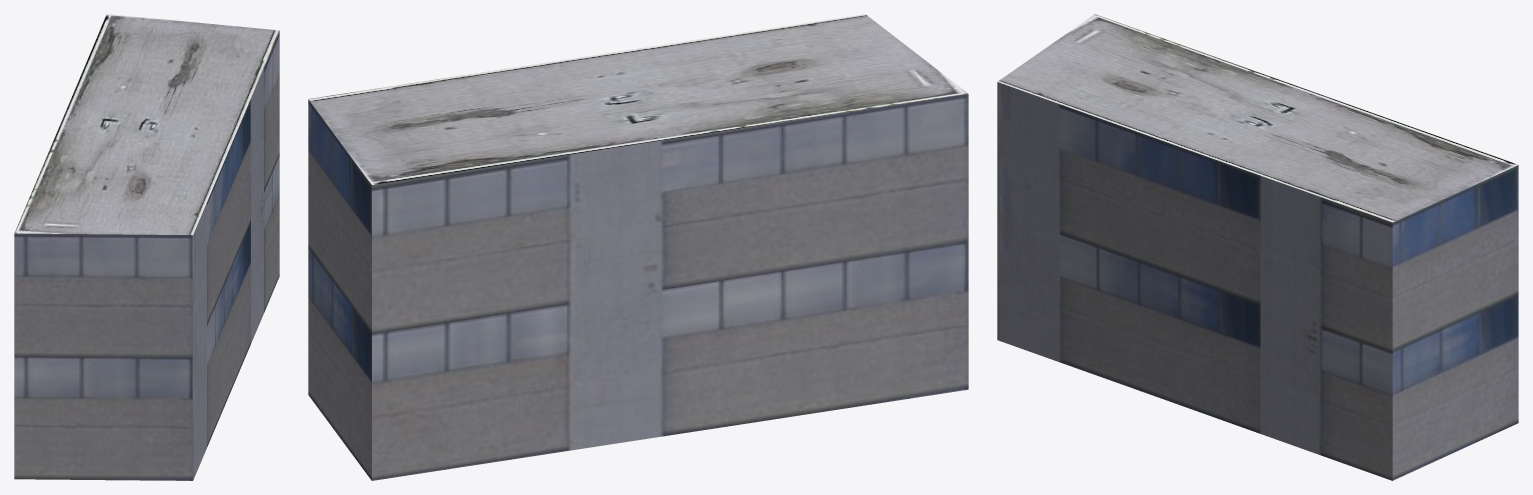
Rendered from RelTex__13.fbx.
The picture shows the model from 3 angles, left to right: view 1: azimuth 30°, elevation 25°; view 2: azimuth 150°, elevation 25°; view 3: azimuth 270°, elevation 25°; orthographic projection. The views are drawn at different scales.
Parts seen in each view (by area): view 1: CityEngineMaterial_22_m, CityEngineMaterial_21_m; view 2: CityEngineMaterial_22_m, CityEngineMaterial_21_m; view 3: CityEngineMaterial_22_m, CityEngineMaterial_21_m.
Part boxes in pixels (x1=…): CityEngineMaterial_22_m: x1=14, y1=31, x2=279, y2=480; CityEngineMaterial_21_m: x1=14, y1=14, x2=279, y2=235; CityEngineMaterial_22_m: x1=308, y1=94, x2=968, y2=480; CityEngineMaterial_21_m: x1=308, y1=14, x2=968, y2=184; CityEngineMaterial_22_m: x1=997, y1=82, x2=1518, y2=480; CityEngineMaterial_21_m: x1=997, y1=14, x2=1518, y2=222.
Size of the model in its own units: 10.4 by 6 by 10.98.
Materials: 2 (2 with a texture image).
